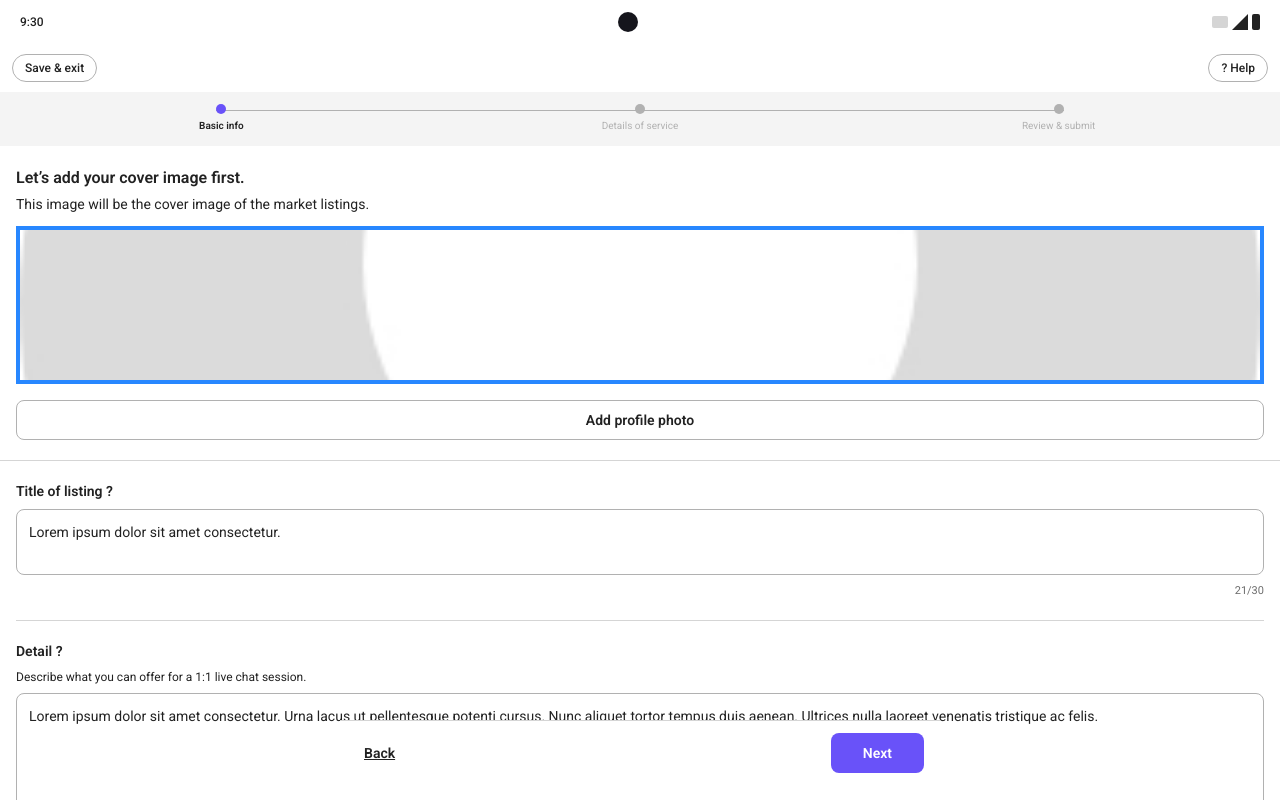
Test: renders the service details step after clicking next
Click the button "Next" at (877, 753), box [831, 733, 924, 773]
(page scrolled)
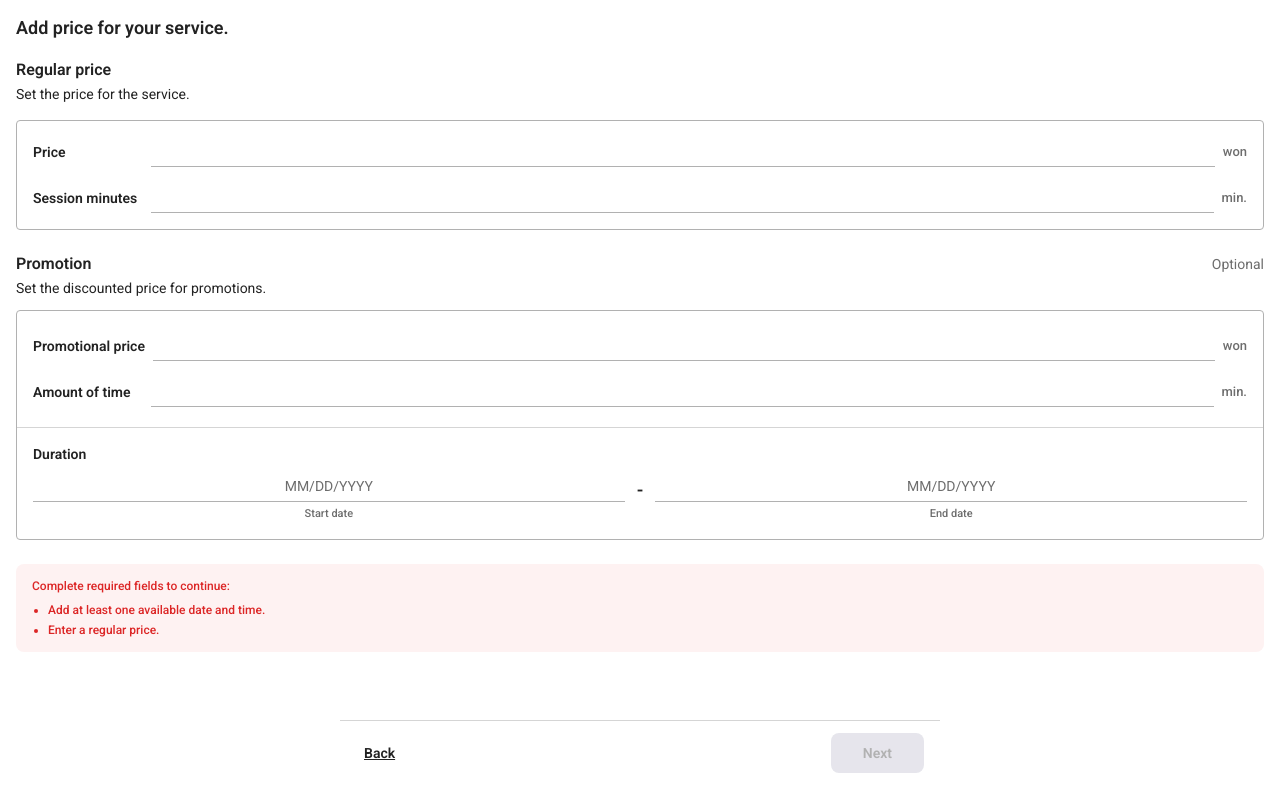
Now the heading "Add price for your service." is shown, box [16, 17, 229, 38]
Now the field labelled "Price" is shown, box [151, 137, 1215, 167]
Now the field labelled "Session minutes" is shown, box [151, 183, 1214, 213]
